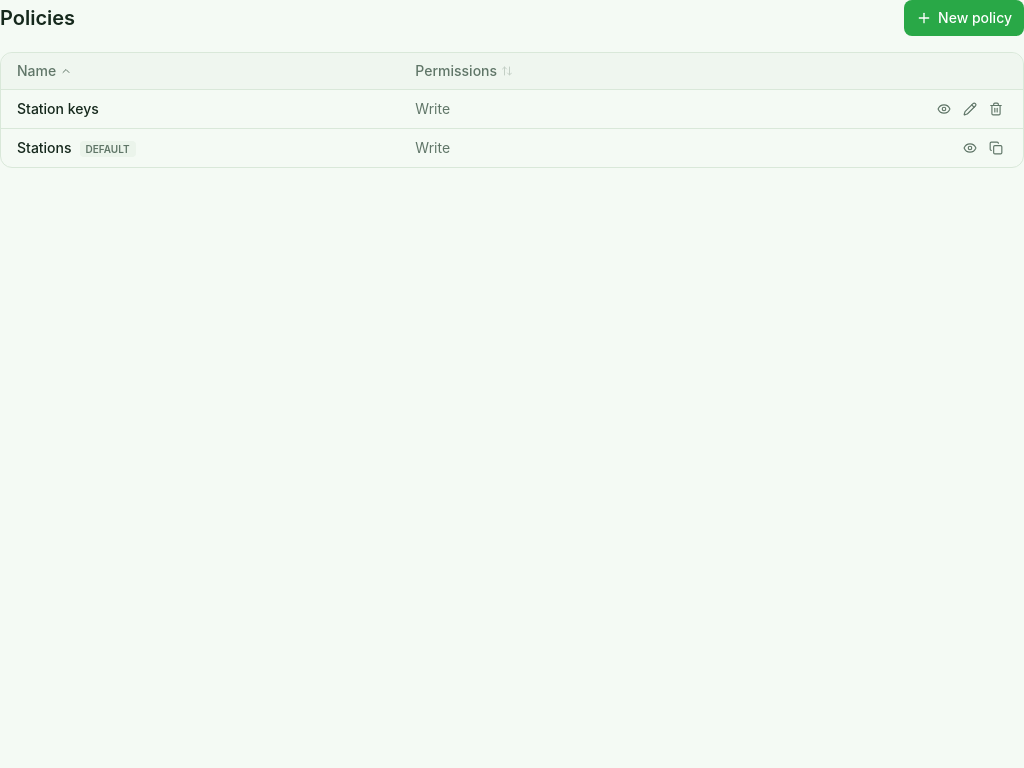
it: Policies › shows Read and Write through the existing policy viewer and resource matrix
Expected: the text "Station keys" is shown, [1,90,399,128]
Expected: the text "Write" is shown 2 times, [415,100,450,117]; [415,139,450,156]
Click the button named "View Stations" at (970, 148), box [959,137,981,159]
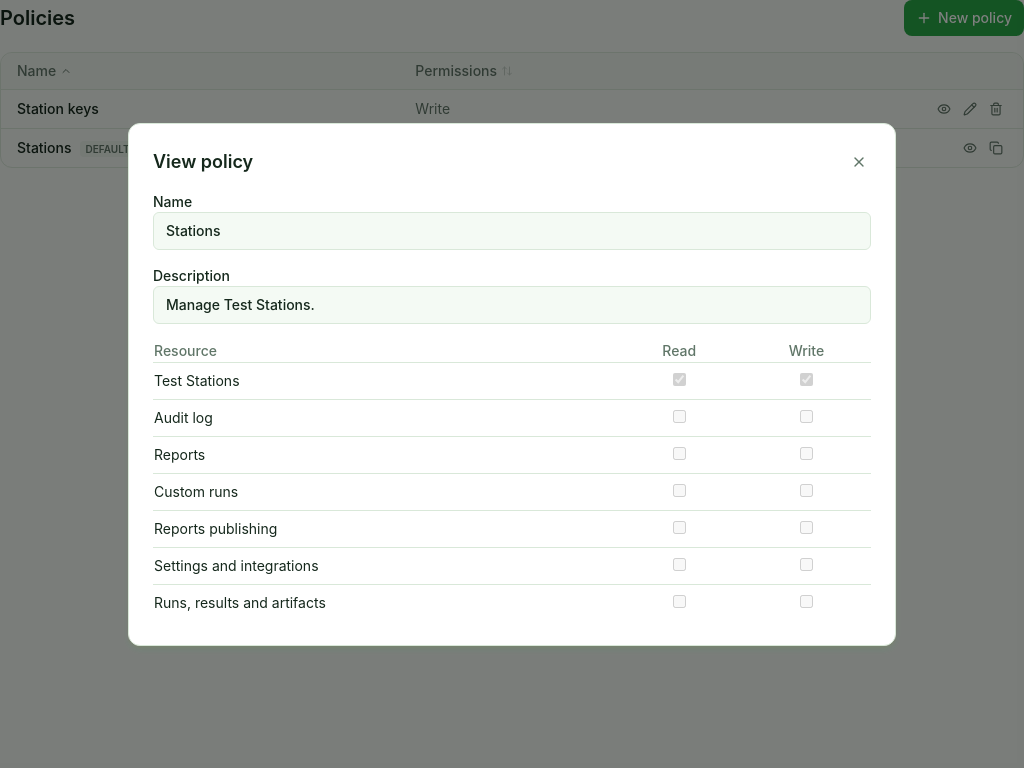
Result: the checkbox named "Read Test Stations" is checked at [673,372,686,386]
Result: the checkbox named "Write Test Stations" is checked at [800,372,813,386]
Result: the checkbox named "Read Test Stations" is disabled at [673,372,686,386]
